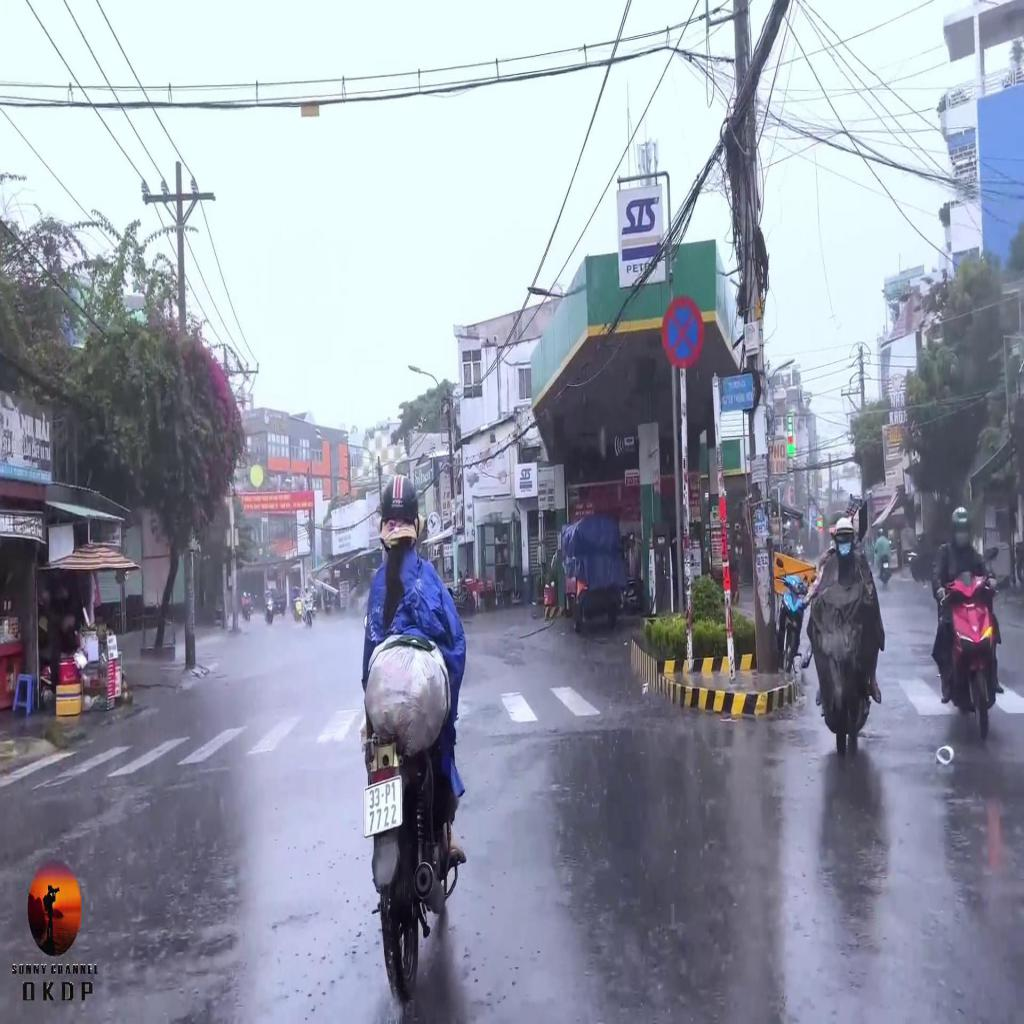cam_dung_xe_va_do_xe: (662, 296, 704, 369)
